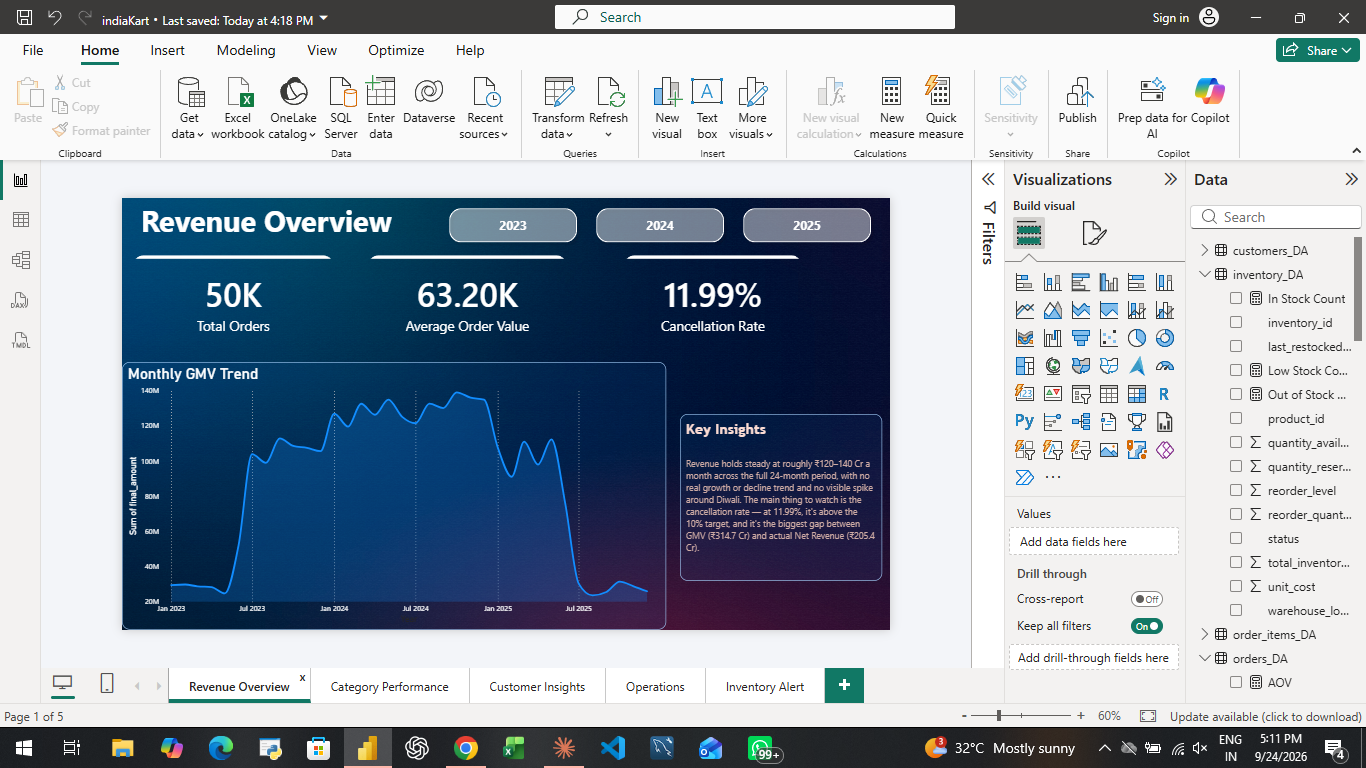

This screenshot's page, from the dashboard's own definition file:
{"tool":"powerbi","page":{"name":"Revenue Overview","canvas":[1280,720],"ordinal":0},"visuals":[{"type":"textbox","box":[26.9,0,501.7,116.2],"z":0},{"type":"cardVisual","fields":{"Data":["CountNonNull(orders DA.order_id)"]},"box":[0,78.3,371.7,195],"z":1000},{"type":"cardVisual","fields":{"Data":["orders_DA.AOV"]},"box":[391.7,78.3,368.3,195],"z":2000},{"type":"cardVisual","fields":{"Data":["orders_DA.Cancellation Rate"]},"box":[818.3,78.3,333.3,195],"z":3000},{"type":"lineChart","title":"Monthly GMV Trend","fields":{"Y":["Sum(orders_DA.final_amount)"],"Category":["orders_DA.order_date.Variation.Date Hierarchy.Year","orders_DA.order_date.Variation.Date Hierarchy.Month"]},"box":[0,273.5,907.1,446.5],"z":4000},{"type":"advancedSlicerVisual","fields":{"Values":["orders_DA.order_date.Variation.Date Hierarchy.Year"]},"box":[528.3,0,738.3,91.7],"z":5000},{"type":"textbox","box":[930,360,336.7,278.3],"z":6000}]}

Visuals, with their boxes on the page's 1280x720 design canvas (x1, y1, x2, y2). These are canvas units, not pixel positions in the 1366x768 screenshot, which may show the page scaled, cropped or inside an application window:
textbox: <bbox>27, 0, 529, 116</bbox>
cardVisual - CountNonNull(orders DA.order_id): <bbox>0, 78, 372, 273</bbox>
cardVisual - orders_DA.AOV: <bbox>392, 78, 760, 273</bbox>
cardVisual - orders_DA.Cancellation Rate: <bbox>818, 78, 1152, 273</bbox>
"Monthly GMV Trend" lineChart: <bbox>0, 274, 907, 720</bbox>
advancedSlicerVisual - orders_DA.order_date.Variation.Date Hierarchy.Year: <bbox>528, 0, 1267, 92</bbox>
textbox: <bbox>930, 360, 1267, 638</bbox>
